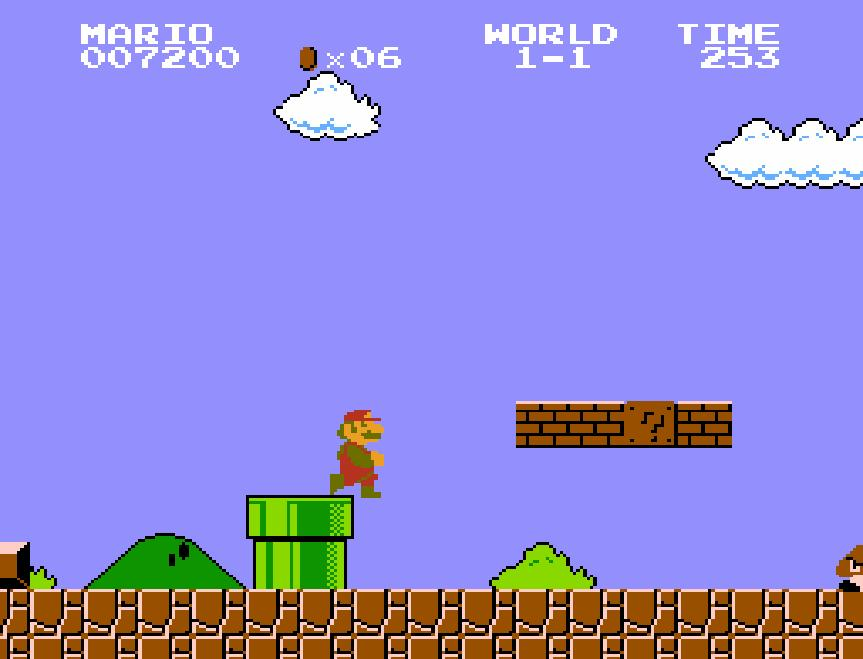big_mario: (328, 402, 386, 500)
